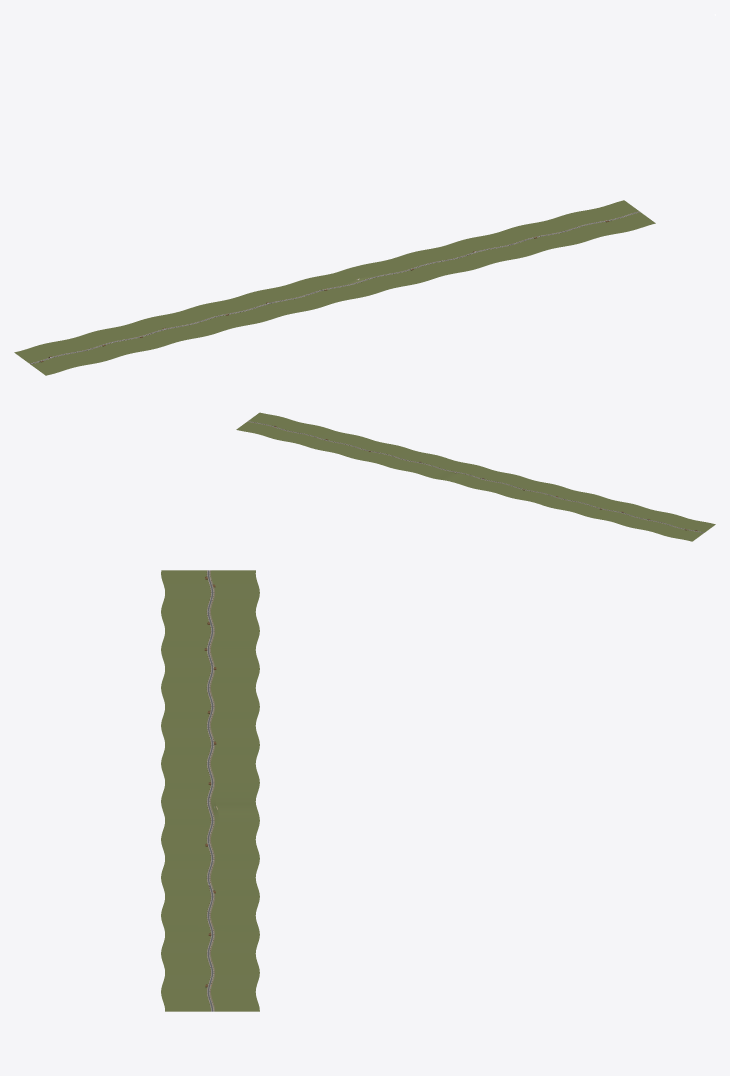
Rendered from oktoberfest.glb.
3 renders of one model, top to bottom at view 1: azimuth 30°, elevation 25°; view 2: azimuth 150°, elevation 25°; view 3: azimuth 270°, elevation 25°, orthographic. The views are drawn at different scales.
Parts seen in each view (by area): view 1: Land_006, Land_001, Land_008, Land_002, Land_003, Land_005, Land_009, Land_004, Land_007, Land_000, Land_010, Land_011; view 2: Land_001, Land_008, Land_003, Land_009, Land_002, Land_004, Land_005, Land_006, Land_007, Land_000, Land_010, Land_011; view 3: Land_002, Land_006, Land_003, Land_010, Land_000, Land_008, Land_009, Land_001, Land_007, Land_004, Land_005, Land_011.
Part boxes in pixels (x1,y1,x2,y2): Land_006: (336,259,421,295); Land_001: (68,326,152,362); Land_008: (443,233,529,268); Land_002: (122,312,205,349); Land_003: (176,299,260,335); Land_005: (283,272,367,309); Land_009: (496,219,583,255); Land_004: (229,286,313,322); Land_007: (389,246,475,282); Land_000: (14,339,97,375); Land_010: (550,206,636,241); Land_011: (603,200,655,228); Land_001: (612,505,676,531); Land_008: (334,435,395,462); Land_003: (532,485,595,511); Land_009: (294,425,354,452); Land_002: (572,495,635,521); Land_004: (493,475,555,501); Land_005: (453,465,515,492); Land_006: (413,455,475,482); Land_007: (374,445,434,472); Land_000: (652,515,715,541); Land_010: (254,415,314,442); Land_011: (236,412,274,433); Land_002: (161,647,259,687); Land_006: (161,802,259,841); Land_003: (161,686,259,725); Land_010: (161,956,259,997); Land_000: (161,570,259,609); Land_008: (161,879,259,919); Land_009: (161,918,259,958); Land_001: (161,608,259,648); Land_007: (161,841,259,880); Land_004: (161,725,259,763); Land_005: (161,764,259,802); Land_011: (162,995,259,1011).
Size of the model in its own units: 14349 by 1101 by 4219.
